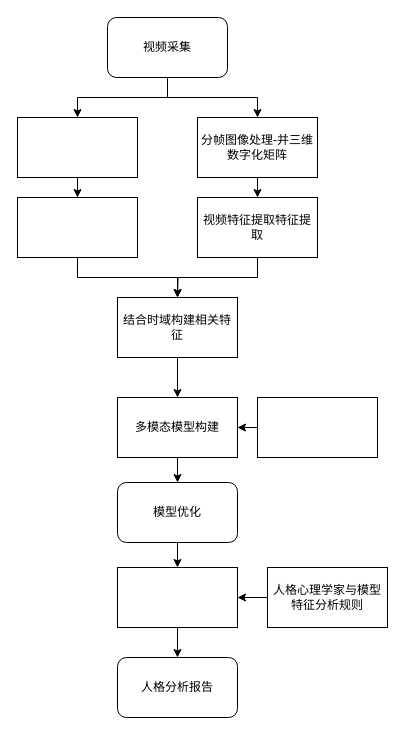
This 405x735 diagram has some shape labels left out. Here are the shapes that lost their labels. From the top down, the centre of each, then its label:
(x=77, y=147): 音频处理-并转换为语音谱
(x=77, y=227): 音频特征提取
(x=317, y=427): 用户基础信息
(x=177, y=597): 人格识别系统
